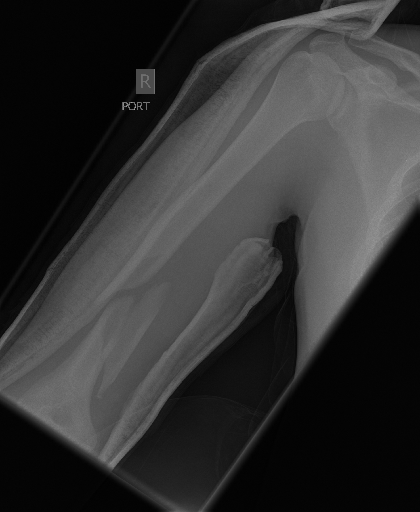fracture: (75, 263, 176, 380)
